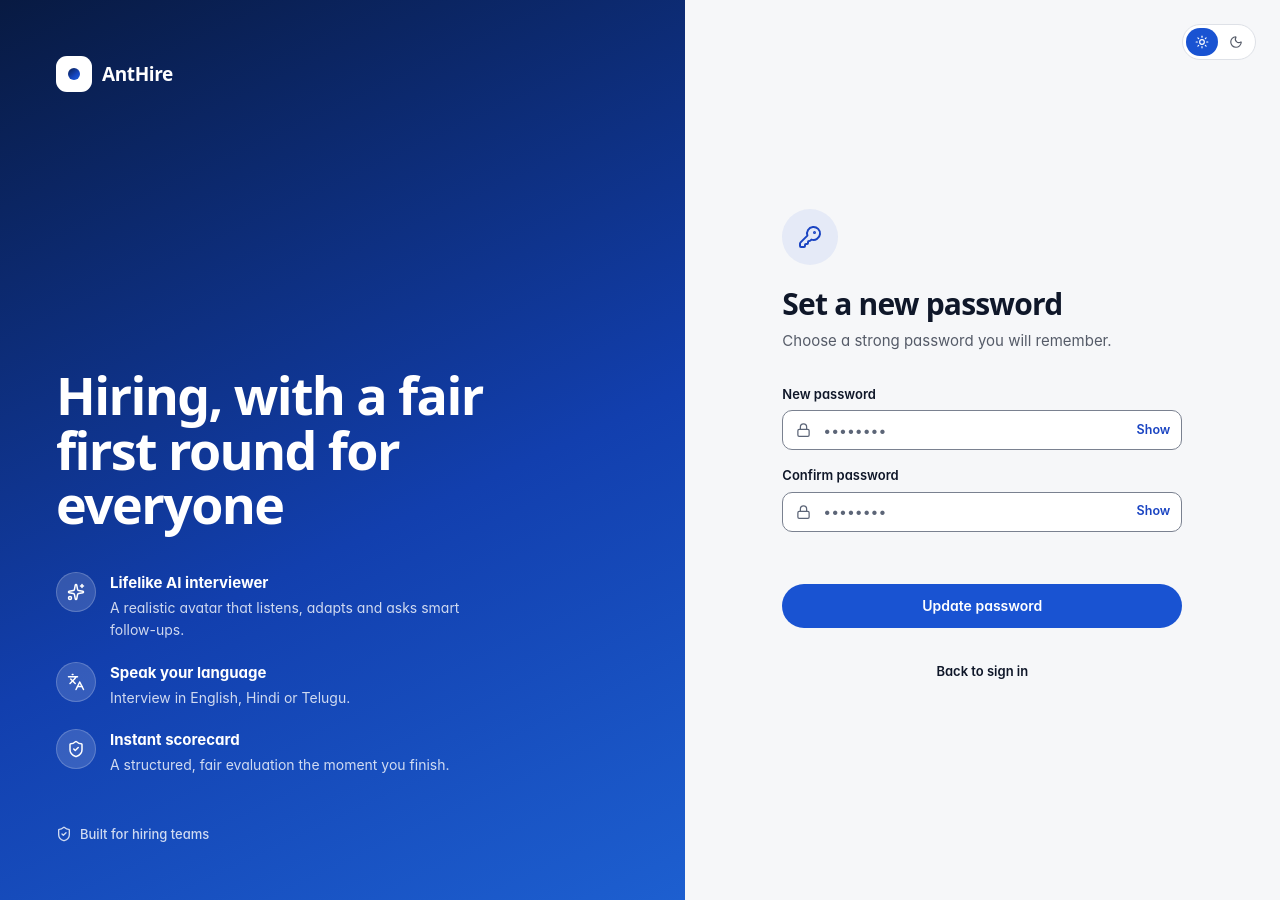
Test: ResetPassword › will not submit when the confirmation does not match
The image size is (1280, 900).
Step 1. Type "CorrectHorse1!" into the password field labelled "New password" → (982, 430), box [782,410,1182,450]
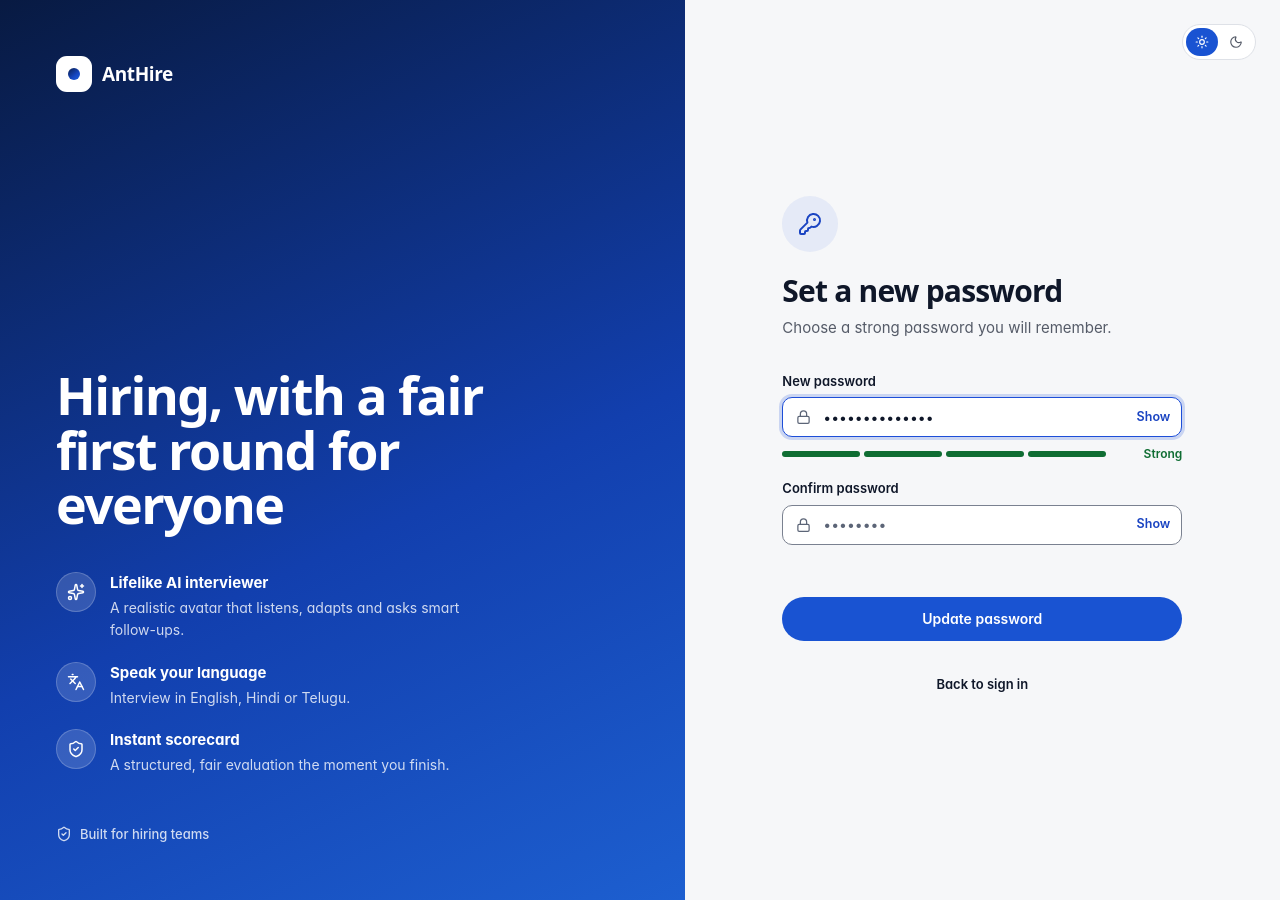
Step 2. Type "CorrectHorse2!" into the password field labelled "Confirm password" → (982, 524), box [782,504,1182,544]
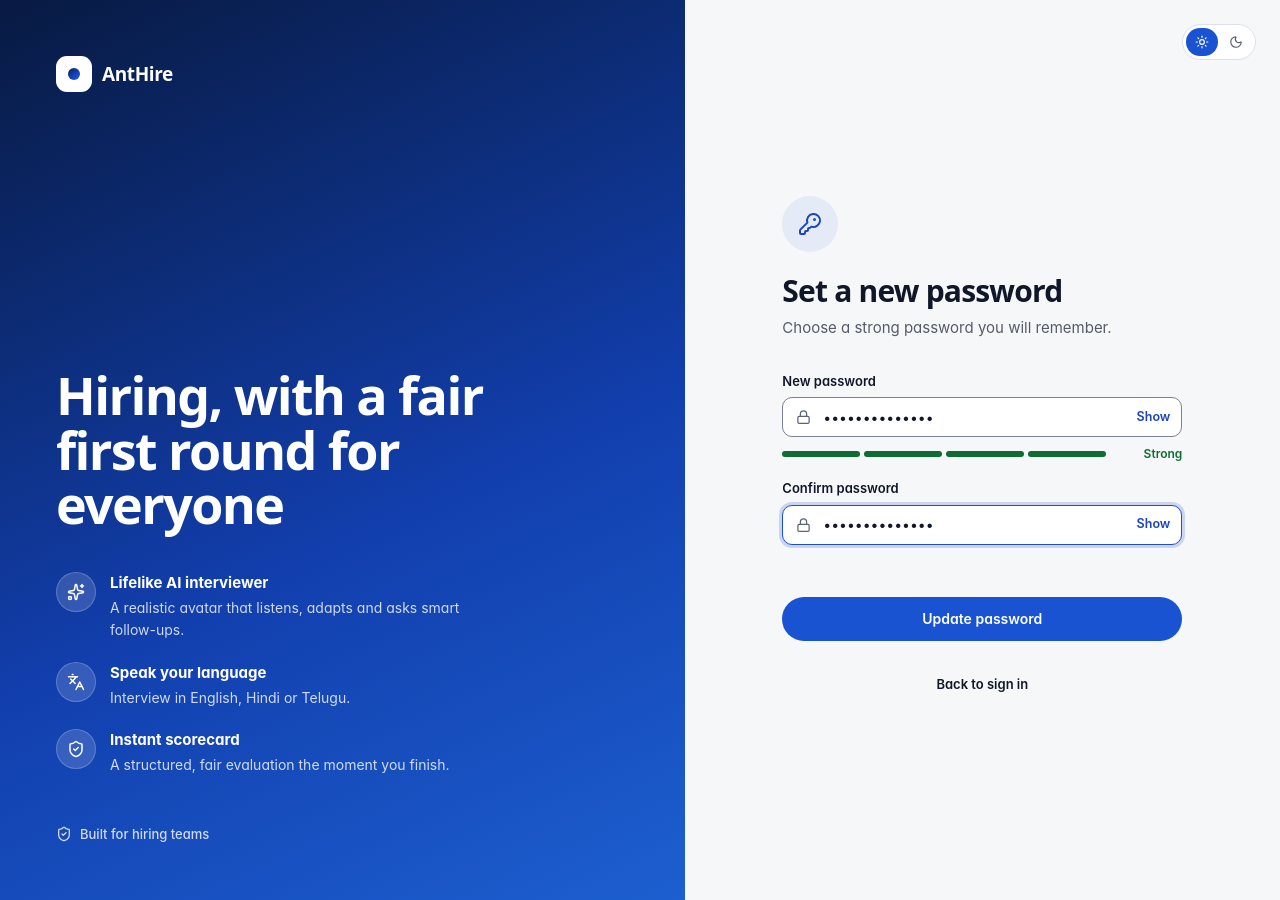
Step 3. Click the button "Update password" → (982, 618), box [782,596,1182,640]
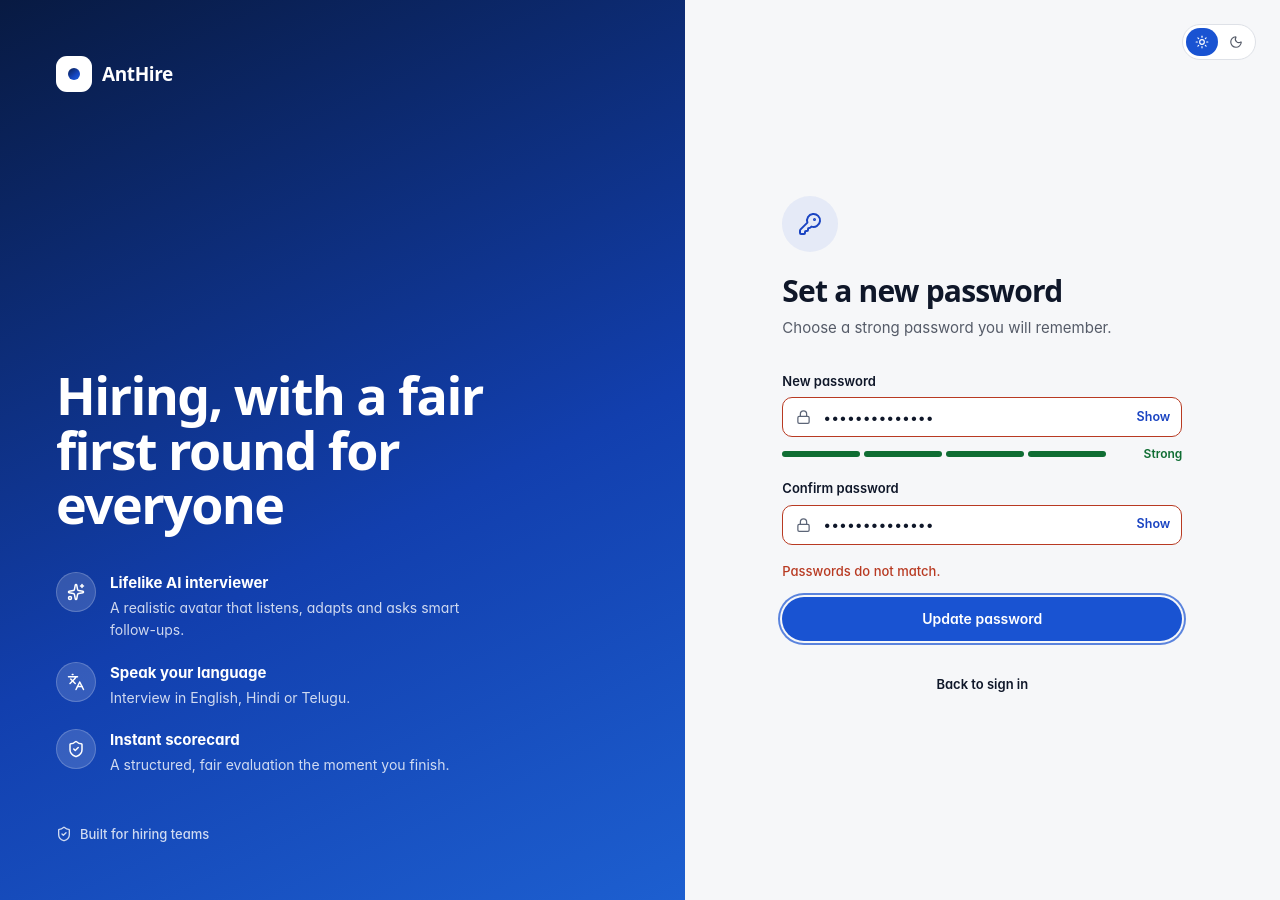
Expected: the message "Passwords do not match." is shown, [782,562,940,578]
